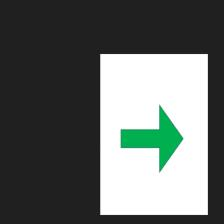right: (118, 102, 185, 176)
